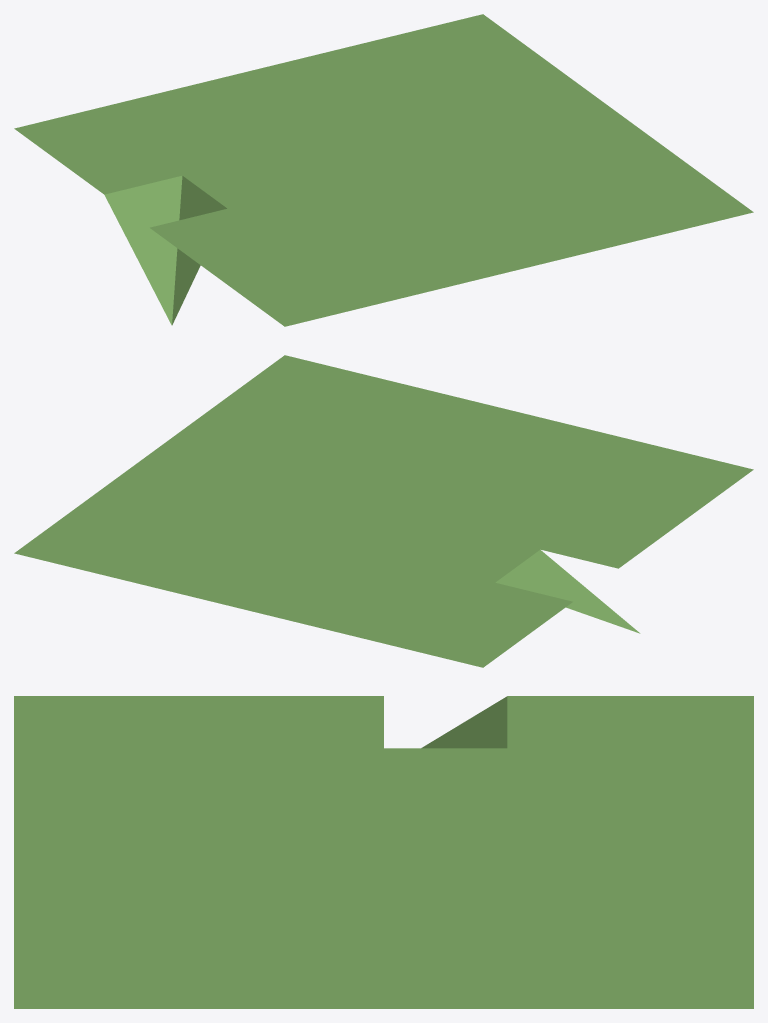
3 views of the same model, one above another, from view 1: azimuth 30°, elevation 25°; view 2: azimuth 150°, elevation 25°; view 3: azimuth 270°, elevation 25° (orthographic). The views are drawn at different scales.
Visible parts, largest first — view 1: Object 685; view 2: Object 685; view 3: Object 685.
Boxes of the visible parts, x1=… form: Object 685: x1=14, y1=14, x2=753, y2=326; Object 685: x1=14, y1=355, x2=753, y2=667; Object 685: x1=14, y1=696, x2=753, y2=1008.
Bounding box in the file's own units: 6 × 1 × 6.
1 material, 1 textured.
